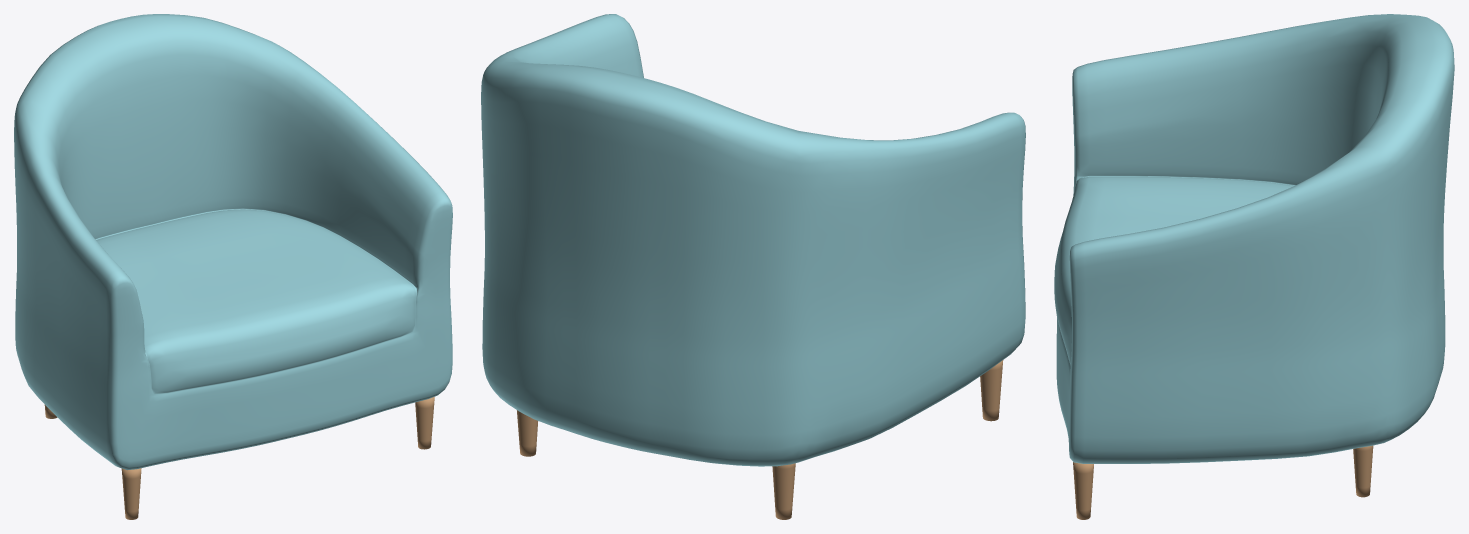
The model's file is sofa1#31.fbx.
The picture shows the model from 3 angles, left to right: view 1: azimuth 30°, elevation 25°; view 2: azimuth 150°, elevation 25°; view 3: azimuth 270°, elevation 25°; orthographic projection. The views are drawn at different scales.
Visible parts, largest first — view 1: Loft02, Object01; view 2: Loft02, Object01; view 3: Loft02, Object01.
Boxes of the visible parts, bbox=[...] form: Loft02: bbox=[14, 14, 452, 470]; Object01: bbox=[44, 397, 434, 519]; Loft02: bbox=[481, 14, 1025, 466]; Object01: bbox=[517, 360, 1003, 519]; Loft02: bbox=[1054, 14, 1454, 463]; Object01: bbox=[1073, 445, 1373, 519].
Bounding box in the file's own units: 1.99 × 1.92 × 1.78.
